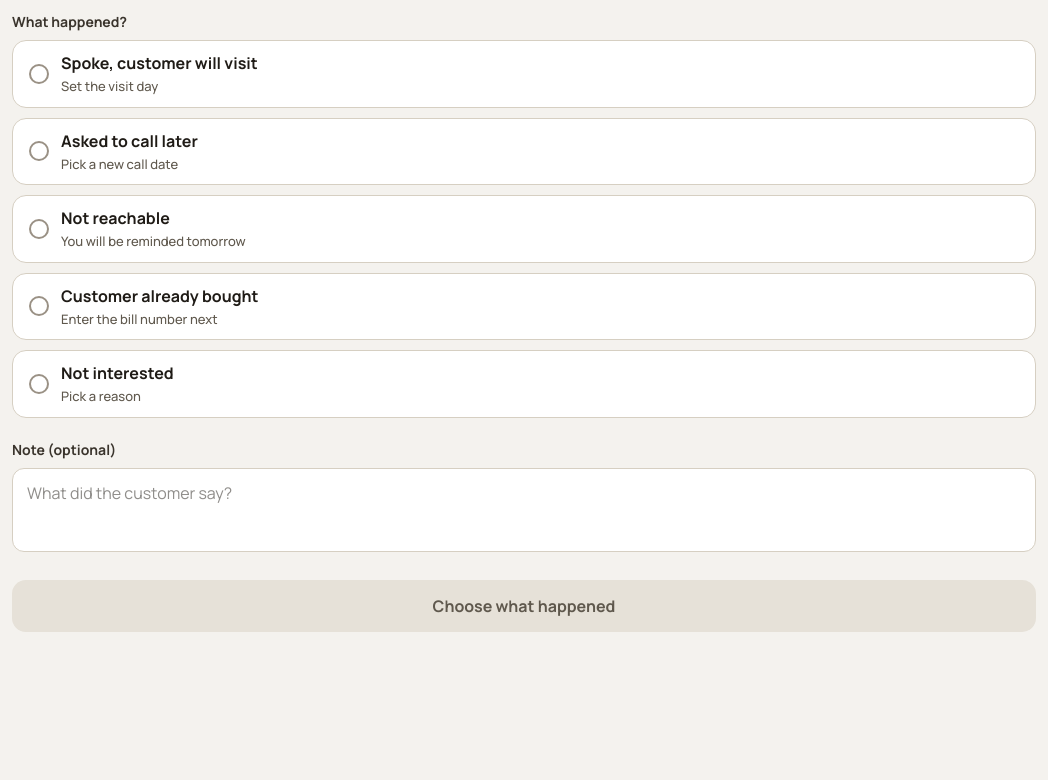
ResultForm › shows the server's refusal
The width and height of the screenshot is (1048, 780).
Click the radio button labelled "Not reachable You will be reminded tomorrow".
click(115, 218)  # box [12, 195, 1036, 262]
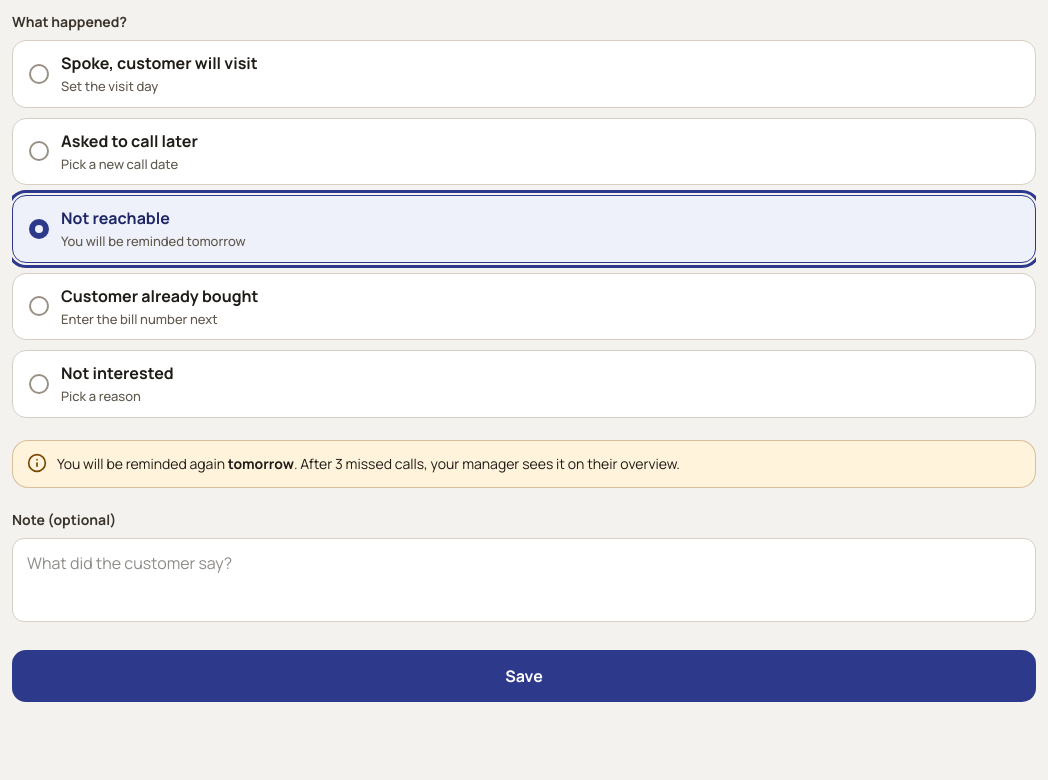
Click the button "Save".
click(524, 676)  # box [12, 650, 1036, 702]
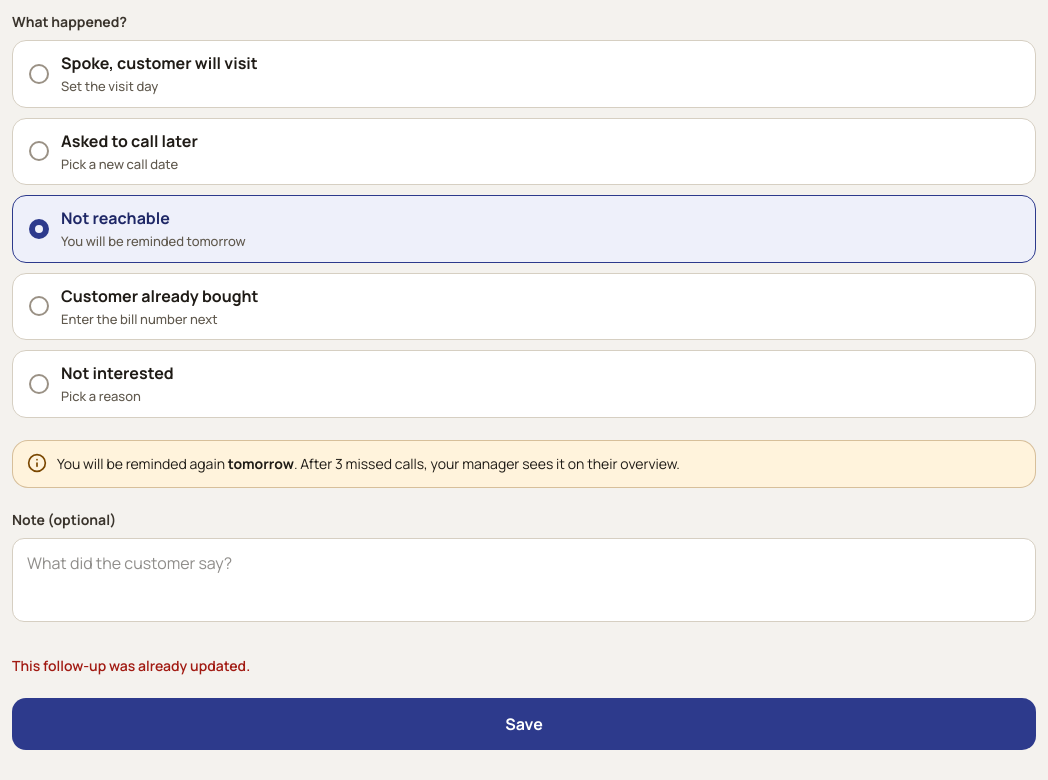
Result: the text "This follow-up was already updated." is shown at [12, 656, 250, 675]
